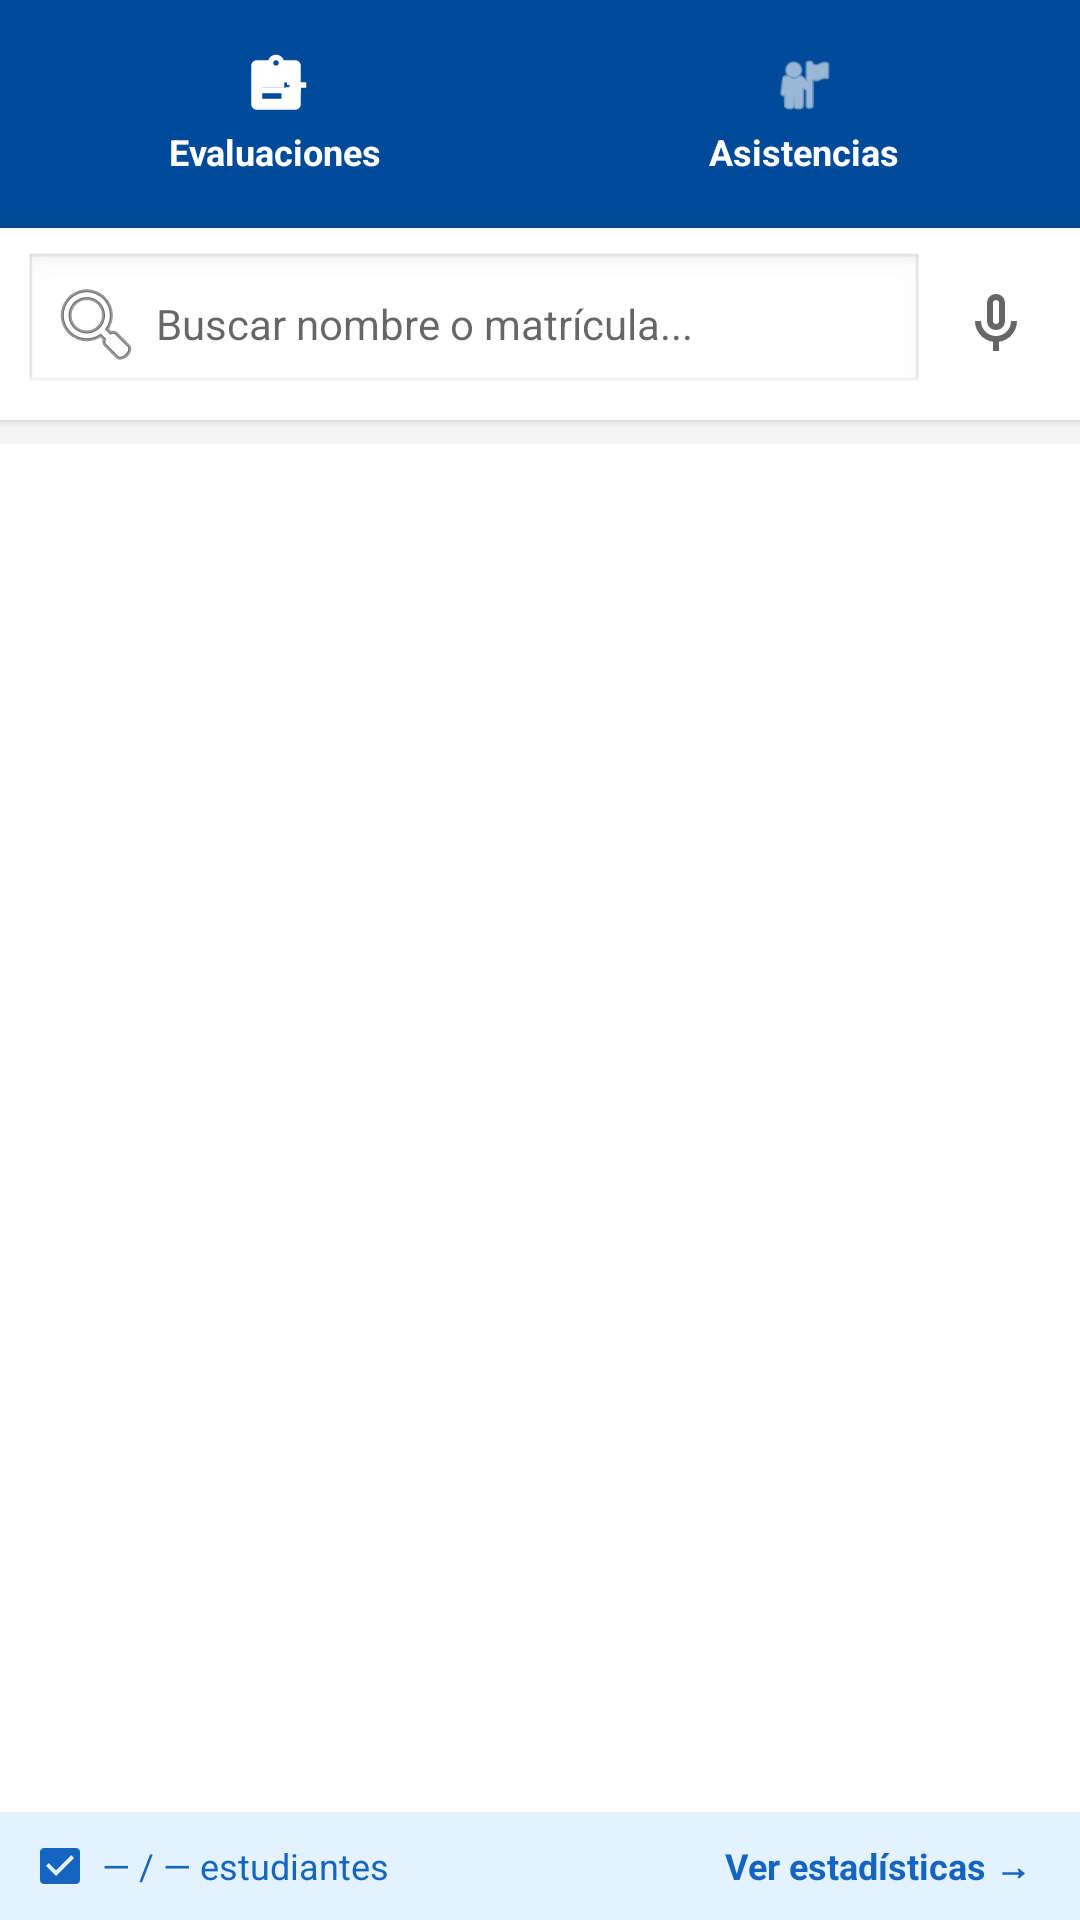

Icons on this 1080 x 1920 Android screen, each with the point to tap as (x=x, y=y):
Iniciar dictado: (x=996, y=322)
